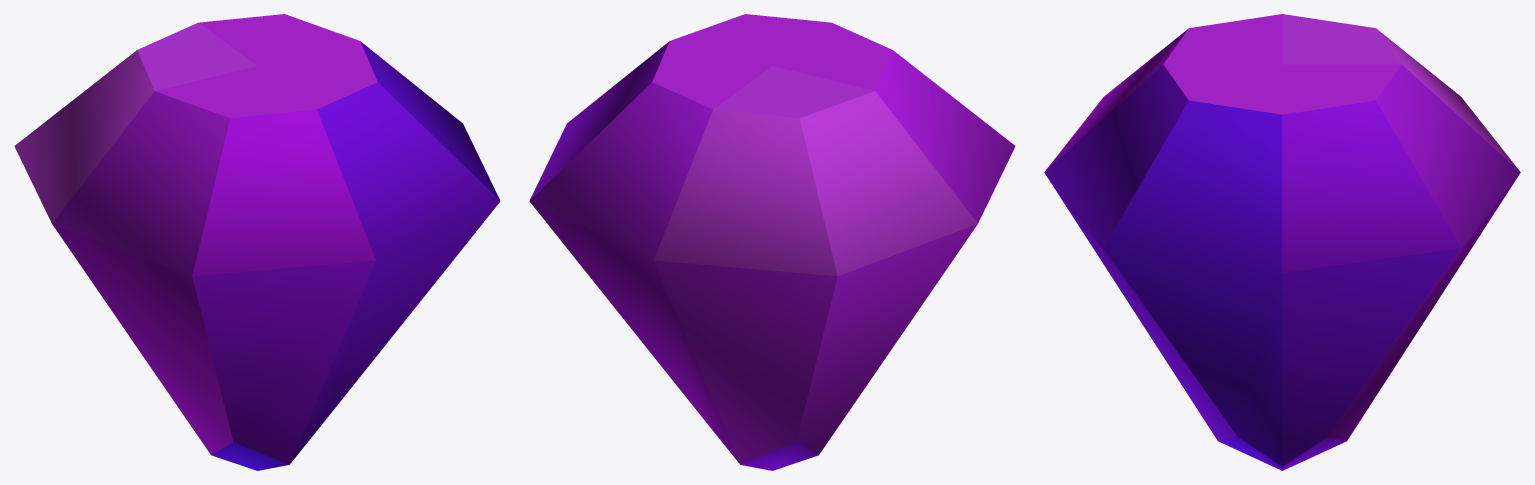
File: gem_purple.dae
3 renders of one model, left to right at view 1: azimuth 30°, elevation 25°; view 2: azimuth 150°, elevation 25°; view 3: azimuth 270°, elevation 25°, orthographic.
Visible parts, largest first — view 1: gem_purple_MSH; view 2: gem_purple_MSH; view 3: gem_purple_MSH.
Boxes of the visible parts, bbox=[...] form: gem_purple_MSH: bbox=[14, 14, 500, 470]; gem_purple_MSH: bbox=[529, 14, 1015, 470]; gem_purple_MSH: bbox=[1044, 14, 1520, 470].
Bounding box in the file's own units: 0.375 × 0.3529 × 0.375.
